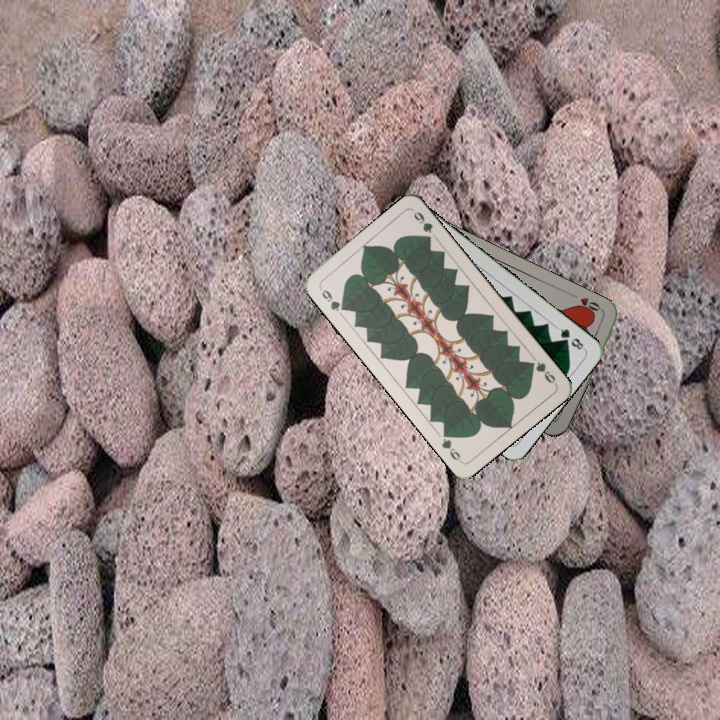G8: (553, 323, 587, 353)
G9: (315, 284, 350, 318), (524, 357, 559, 387)
HO: (568, 290, 606, 317)
